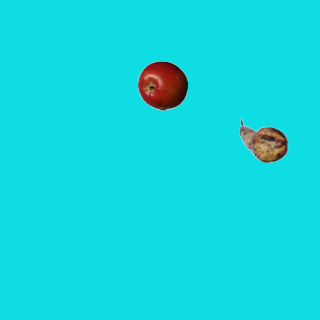Apple Braeburn: (137, 60, 187, 110)
Pear Abate: (238, 115, 288, 165)
